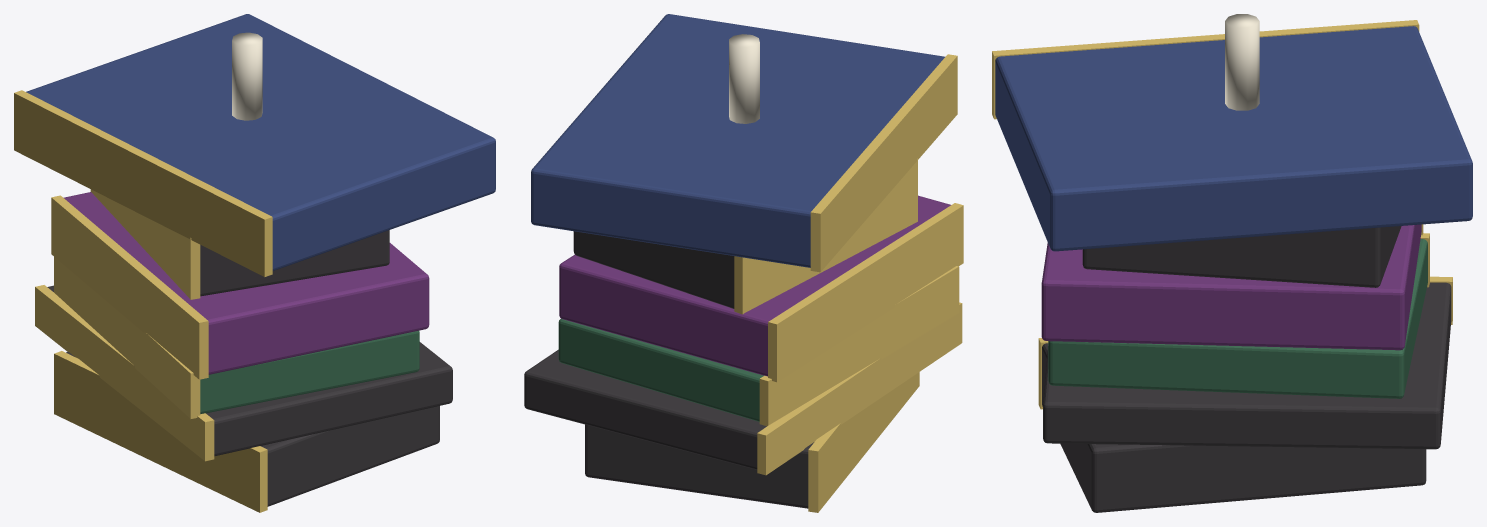
Rendered from book_stack_tall_stack.glb.
3 renders of one model, left to right at view 1: azimuth 30°, elevation 25°; view 2: azimuth 150°, elevation 25°; view 3: azimuth 270°, elevation 25°, orthographic. The views are drawn at different scales.
Visible parts, largest first — view 1: GD_book_stack_tall_stack__m3, GD_book_stack_tall_stack__m2, GD_book_stack_tall_stack__m0, GD_book_stack_tall_stack__m6, GD_book_stack_tall_stack__m5, GD_book_stack_tall_stack__m4; view 2: GD_book_stack_tall_stack__m3, GD_book_stack_tall_stack__m2, GD_book_stack_tall_stack__m0, GD_book_stack_tall_stack__m6, GD_book_stack_tall_stack__m5, GD_book_stack_tall_stack__m4; view 3: GD_book_stack_tall_stack__m3, GD_book_stack_tall_stack__m0, GD_book_stack_tall_stack__m6, GD_book_stack_tall_stack__m5, GD_book_stack_tall_stack__m2, GD_book_stack_tall_stack__m4.
Boxes of the visible parts, x1,y1,x2,y2 form: GD_book_stack_tall_stack__m3: (26, 14, 495, 270); GD_book_stack_tall_stack__m2: (14, 90, 272, 512); GD_book_stack_tall_stack__m0: (47, 230, 452, 506); GD_book_stack_tall_stack__m6: (63, 192, 429, 374); GD_book_stack_tall_stack__m5: (200, 330, 419, 413); GD_book_stack_tall_stack__m4: (232, 32, 262, 120); GD_book_stack_tall_stack__m3: (531, 14, 944, 267); GD_book_stack_tall_stack__m2: (734, 54, 963, 512); GD_book_stack_tall_stack__m0: (524, 231, 814, 508); GD_book_stack_tall_stack__m6: (559, 195, 950, 376); GD_book_stack_tall_stack__m5: (558, 318, 763, 421); GD_book_stack_tall_stack__m4: (729, 34, 759, 123); GD_book_stack_tall_stack__m3: (995, 26, 1472, 251); GD_book_stack_tall_stack__m0: (1042, 226, 1451, 512); GD_book_stack_tall_stack__m6: (1041, 224, 1421, 350); GD_book_stack_tall_stack__m5: (1048, 239, 1427, 398); GD_book_stack_tall_stack__m2: (992, 20, 1452, 409); GD_book_stack_tall_stack__m4: (1225, 14, 1259, 110).
Size of the model in its own units: 0.3528 by 0.4114 by 0.42.
